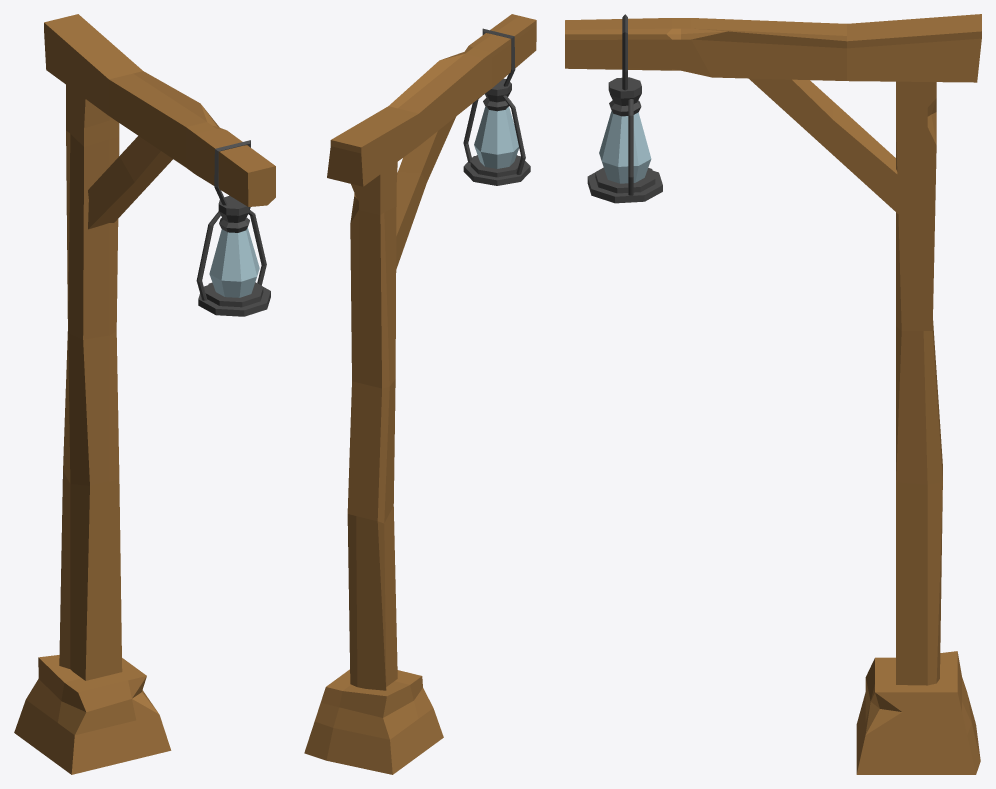
The model's file is Street_light.fbx.
3 views of the same model, side by side, from view 1: azimuth 30°, elevation 25°; view 2: azimuth 150°, elevation 25°; view 3: azimuth 270°, elevation 25° (orthographic). The views are drawn at different scales.
Visible parts, largest first — view 1: Street_light; view 2: Street_light; view 3: Street_light.
Part boxes in pixels (x1,y1,x2,y2): Street_light: (14, 14, 275, 774); Street_light: (304, 14, 536, 774); Street_light: (565, 14, 981, 774).
Bounding box in the file's own units: 52.75 × 184 × 354.
